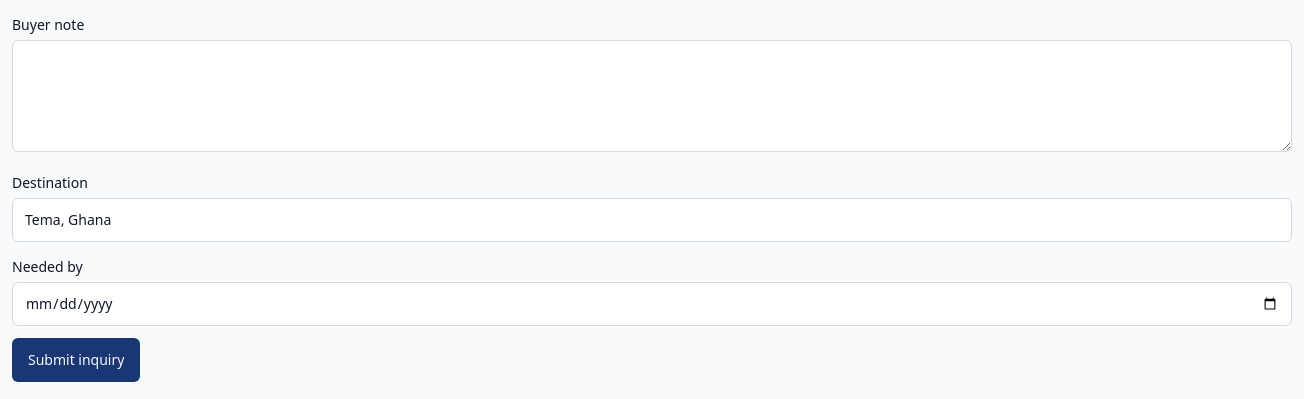
Test: submit inquiry › shows the inquiry reference after a successful submit
The width and height of the screenshot is (1304, 399).
Click the button "Submit inquiry": click(76, 360) left=12, top=338, right=140, bottom=382
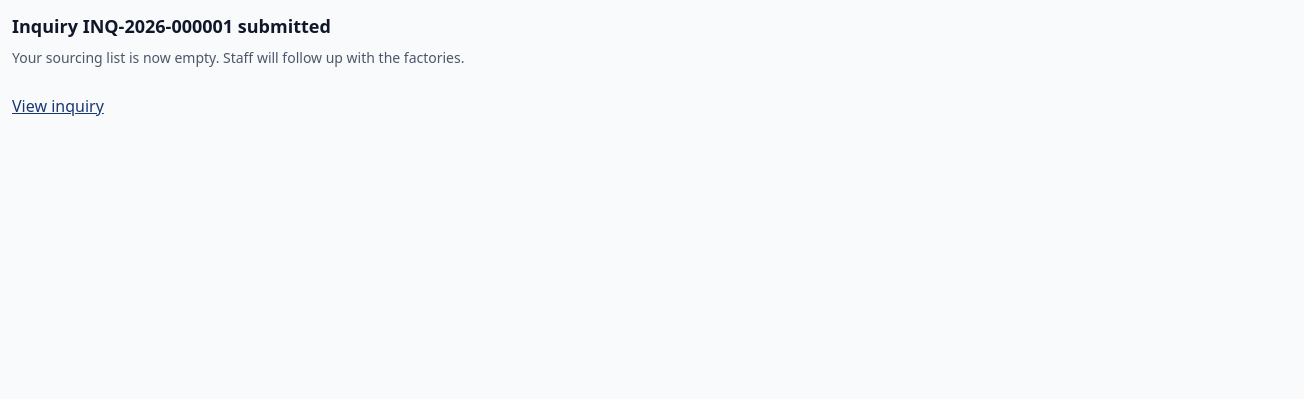
Expected: the text "Inquiry INQ-2026-000001 submitted" is shown, left=12, top=14, right=331, bottom=38
